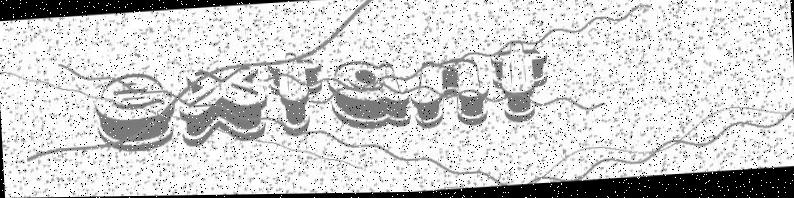a: (325, 58, 412, 134)
e: (92, 69, 176, 155)
n: (409, 57, 489, 133)
t: (267, 50, 325, 141), (489, 41, 551, 126)
x: (176, 64, 270, 148)
